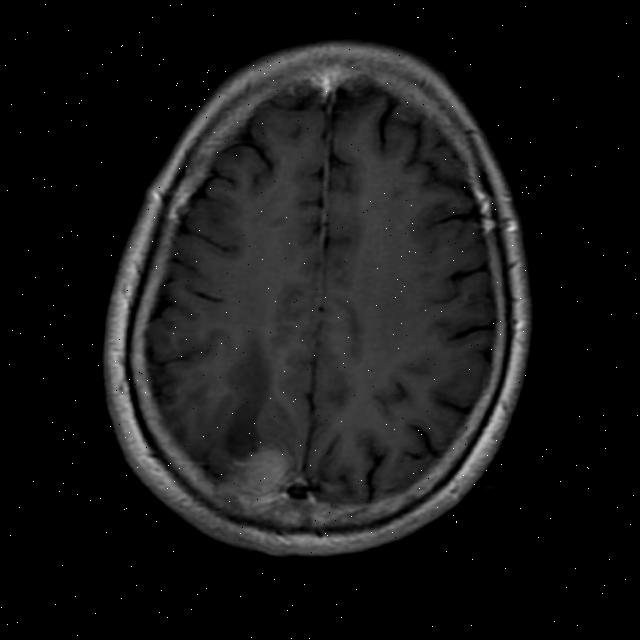Meningioma: (225, 442, 295, 512)
